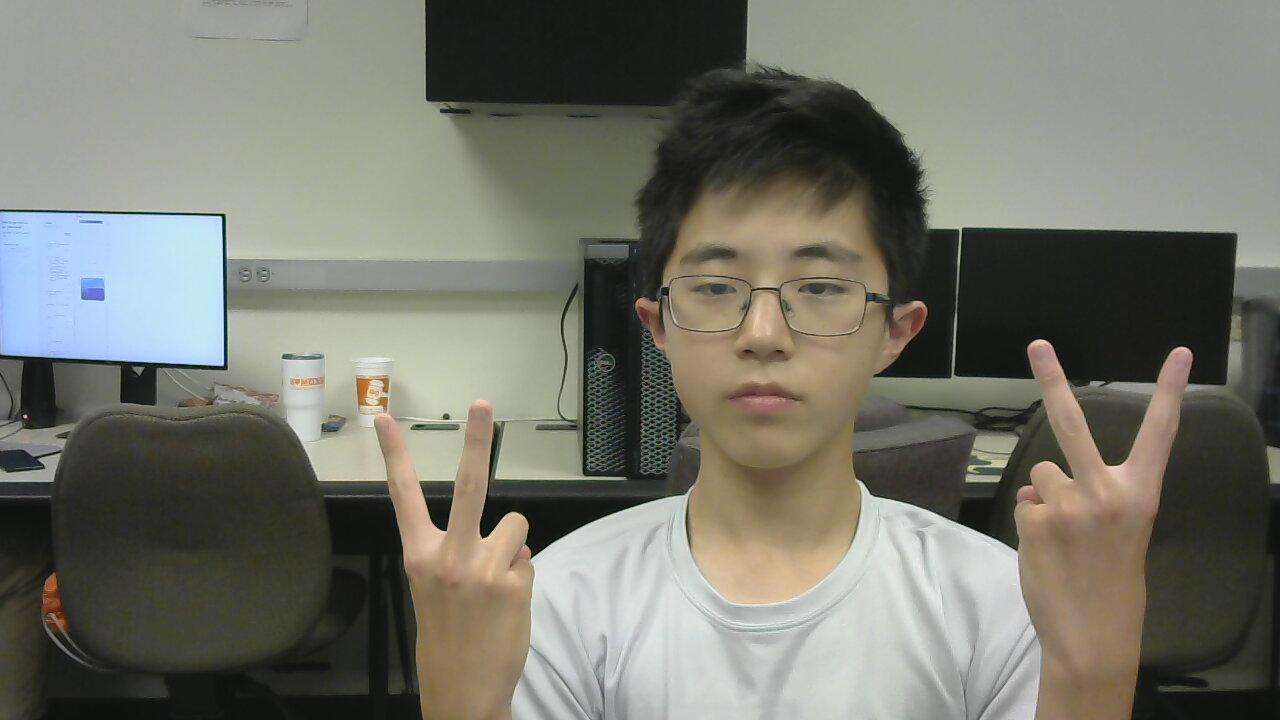peace: (996, 332, 1184, 706), (351, 387, 542, 706)
